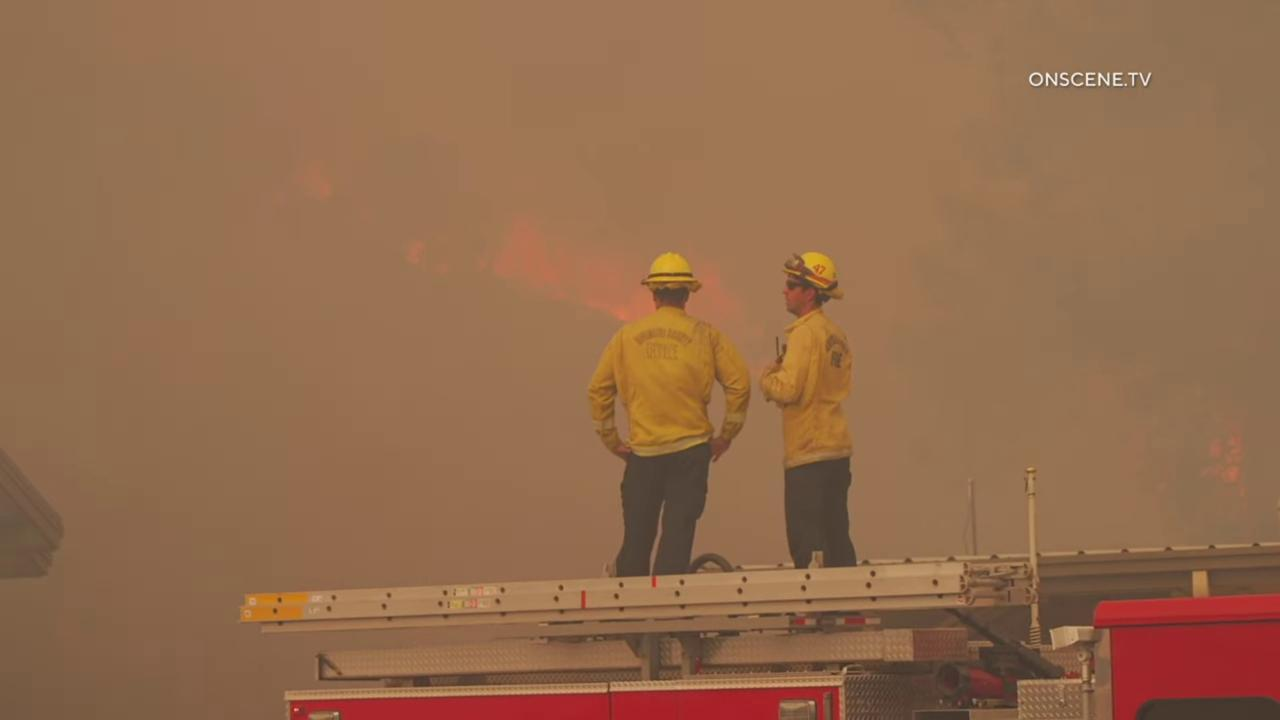fire: (407, 198, 749, 335), (1202, 428, 1247, 488)
smoke: (0, 0, 1280, 720)
